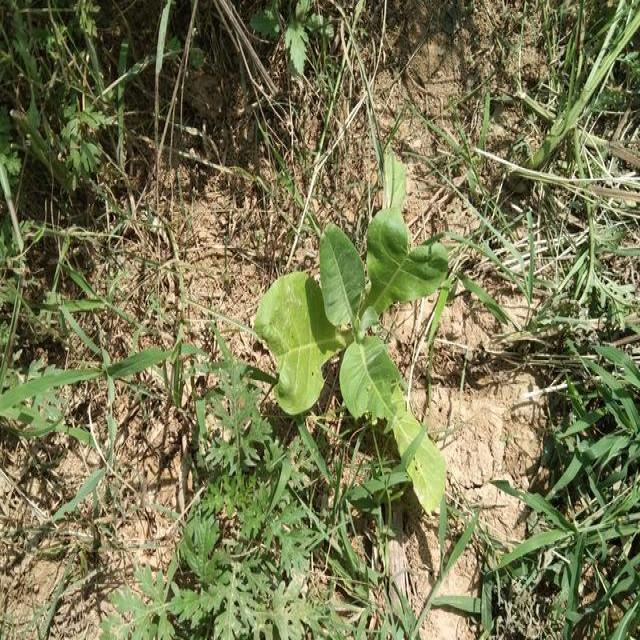crop: (259, 207, 448, 509)
